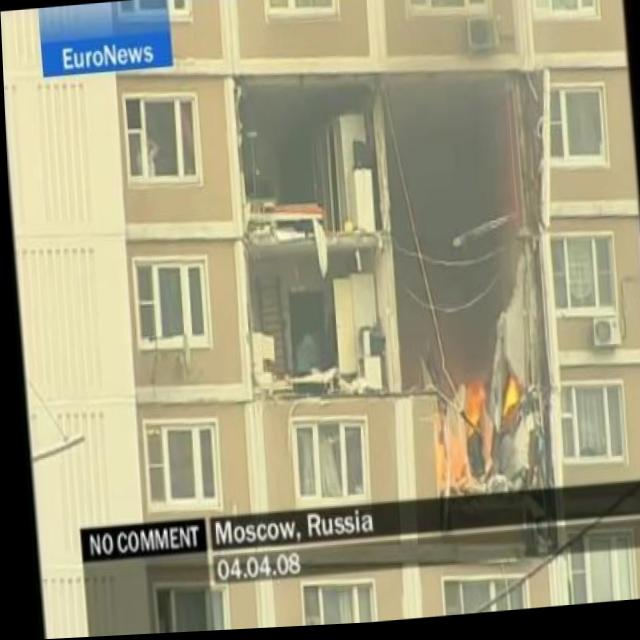fire: (453, 370, 488, 446), (498, 375, 522, 425)
